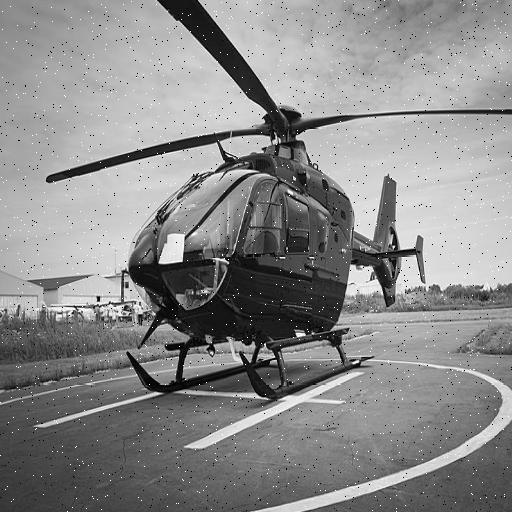helicopter: (49, 1, 512, 405)
